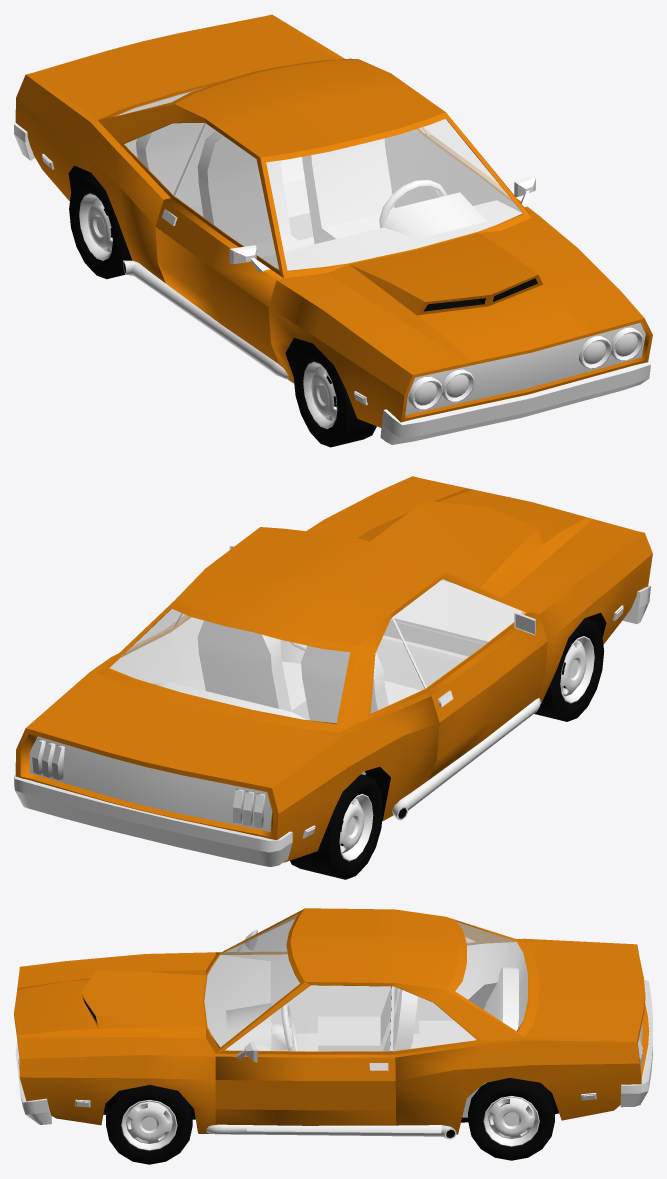
Rendered from Auticko.fbx.
The picture shows the model from 3 angles, top to bottom: view 1: azimuth 30°, elevation 25°; view 2: azimuth 150°, elevation 25°; view 3: azimuth 270°, elevation 25°; orthographic projection. The views are drawn at different scales.
Visible parts, largest first — view 1: Kastle_Auta, Kapota, Pravy_dvere, Kufr, Levy_dvere, Kolo_PP, Kolo_PZ, VOLAANT; view 2: Kastle_Auta, Kapota, Pravy_dvere, Kufr, Kolo_PZ, Kolo_PP, Levy_dvere; view 3: Kastle_Auta, Levy_dvere, Kapota, Kufr, Pravy_dvere, Kolo_LZ, Kolo_LP, VOLAANT.
Part boxes in pixels (box(x1,y1,x2,y2)): Kastle_Auta: box(14, 14, 652, 444); Kapota: box(284, 218, 637, 373); Pravy_dvere: box(155, 123, 283, 364); Kufr: box(33, 16, 335, 119); Levy_dvere: box(412, 119, 538, 217); Kolo_PP: box(293, 343, 376, 447); Kolo_PZ: box(69, 173, 132, 279); VOLAANT: box(379, 179, 446, 227); Kastle_Auta: box(14, 476, 652, 866); Kapota: box(315, 478, 636, 612); Pravy_dvere: box(392, 578, 547, 779); Kufr: box(33, 673, 338, 786); Kolo_PZ: box(290, 774, 383, 879); Kolo_PP: box(534, 617, 604, 721); Levy_dvere: box(165, 545, 280, 690); Kastle_Auta: box(14, 908, 652, 1139); Levy_dvere: box(215, 985, 396, 1125); Kapota: box(14, 955, 215, 1055); Kufr: box(525, 941, 645, 1039); Pravy_dvere: box(215, 918, 390, 1033); Kolo_LZ: box(468, 1078, 554, 1160); Kolo_LP: box(106, 1085, 192, 1164); VOLAANT: box(281, 1003, 298, 1051).
Size of the model in its own units: 1682 by 1111 by 3748.
